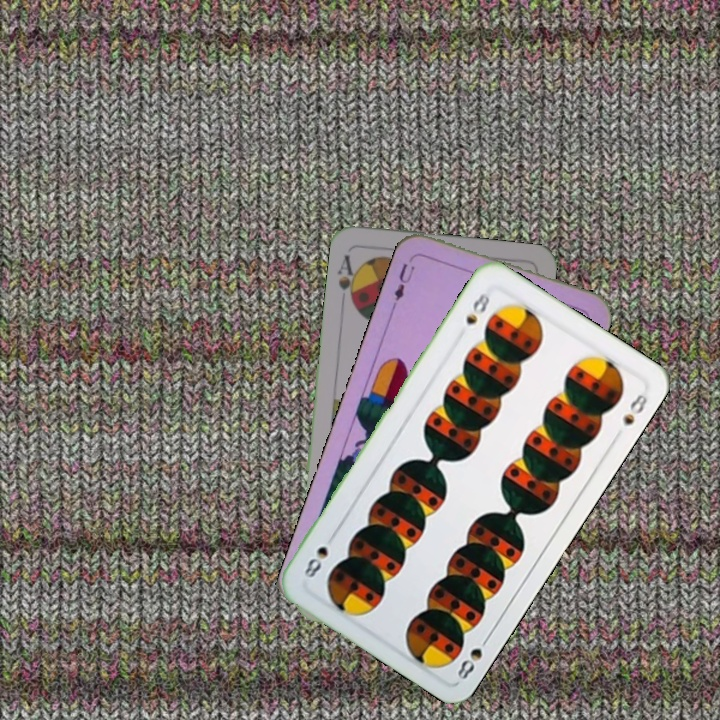EU: (388, 259, 418, 310)
S8: (453, 630, 494, 685), (461, 284, 496, 328)
SA: (334, 251, 362, 308)
